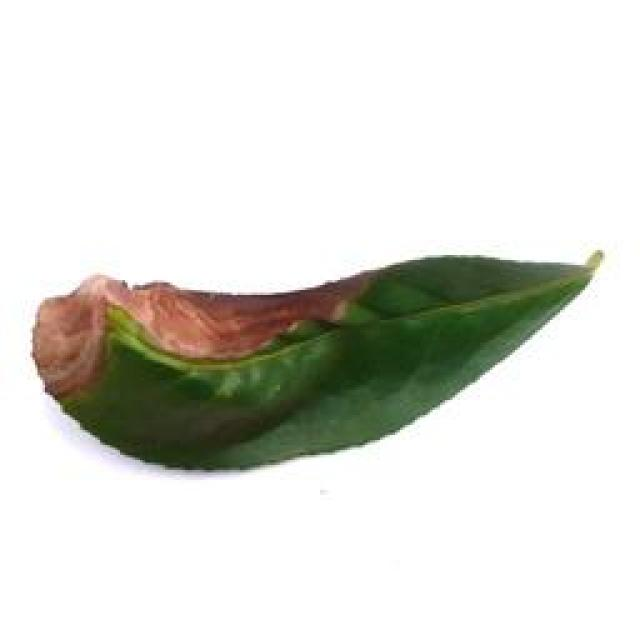Brown Blight: (29, 237, 615, 479)
